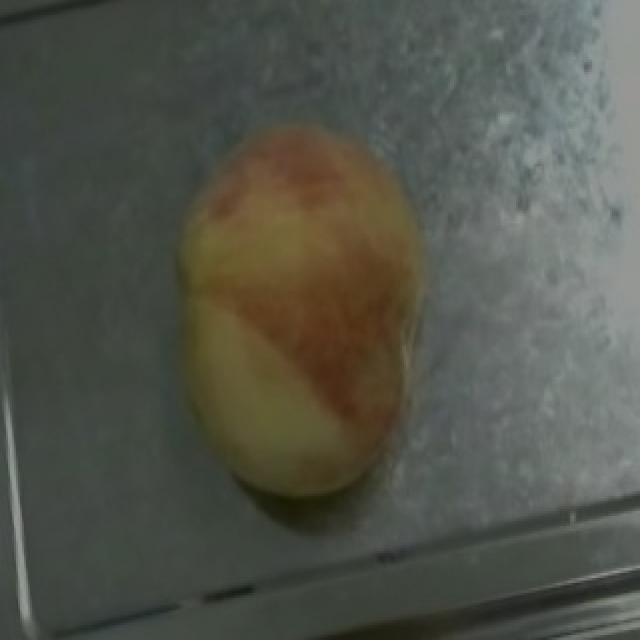Fruit: (142, 228, 460, 536)
